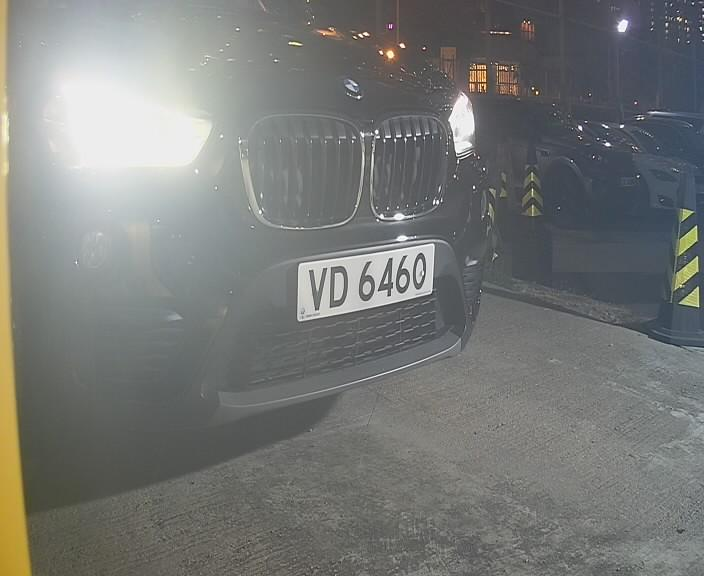License Plate: (287, 235, 447, 327)
